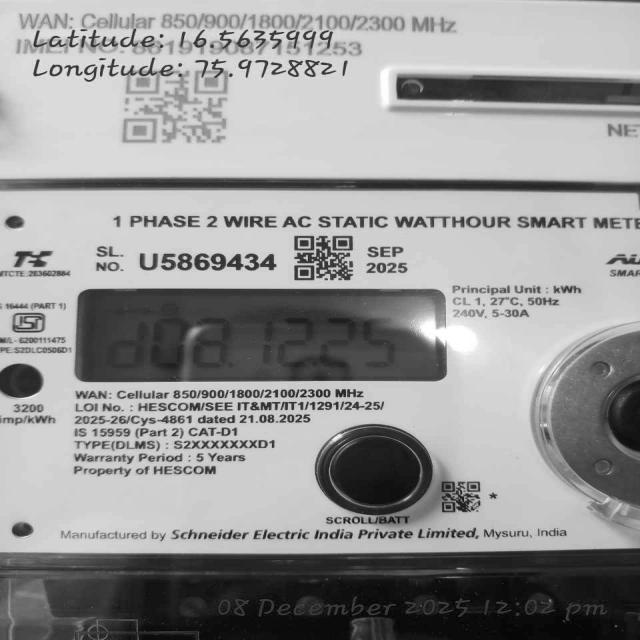meter: (0, 2, 639, 550)
